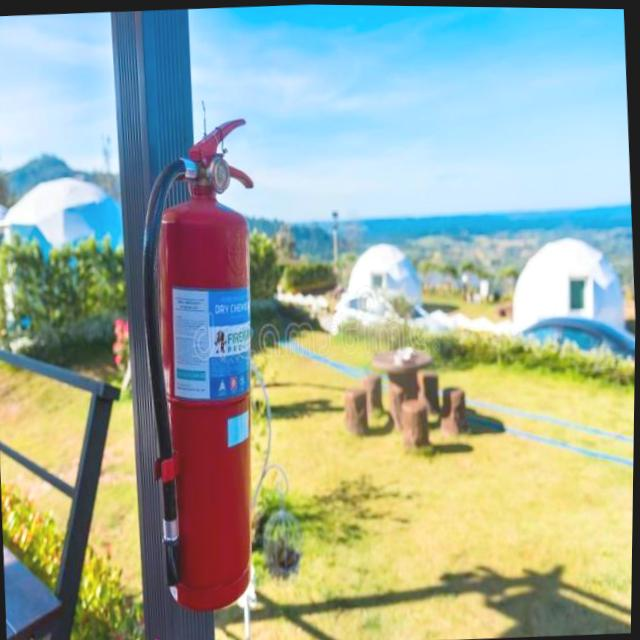FireExtinguisher: (126, 112, 279, 618)
